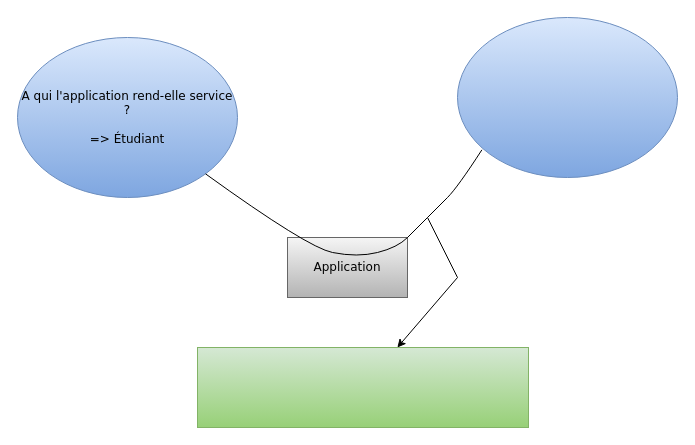
Some shapes in this 695 by 445 pixel diagram are drawn without their labels. Here are the shapes that lost their labels. From the top down, the centre of each, then its label:
At [567,97]: "Sur quoi l'application agit-elle ? => Sur l'organisation des étudiants".
At [362,387]: "Il rend service à l’étudiant en agissant sur l’organisation de sa journée".
